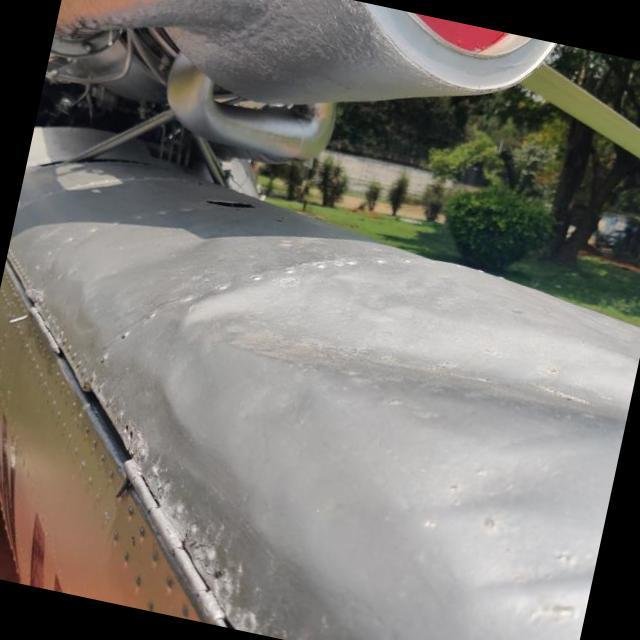Dent: (153, 202, 640, 473), (388, 434, 554, 580), (438, 519, 598, 640)
